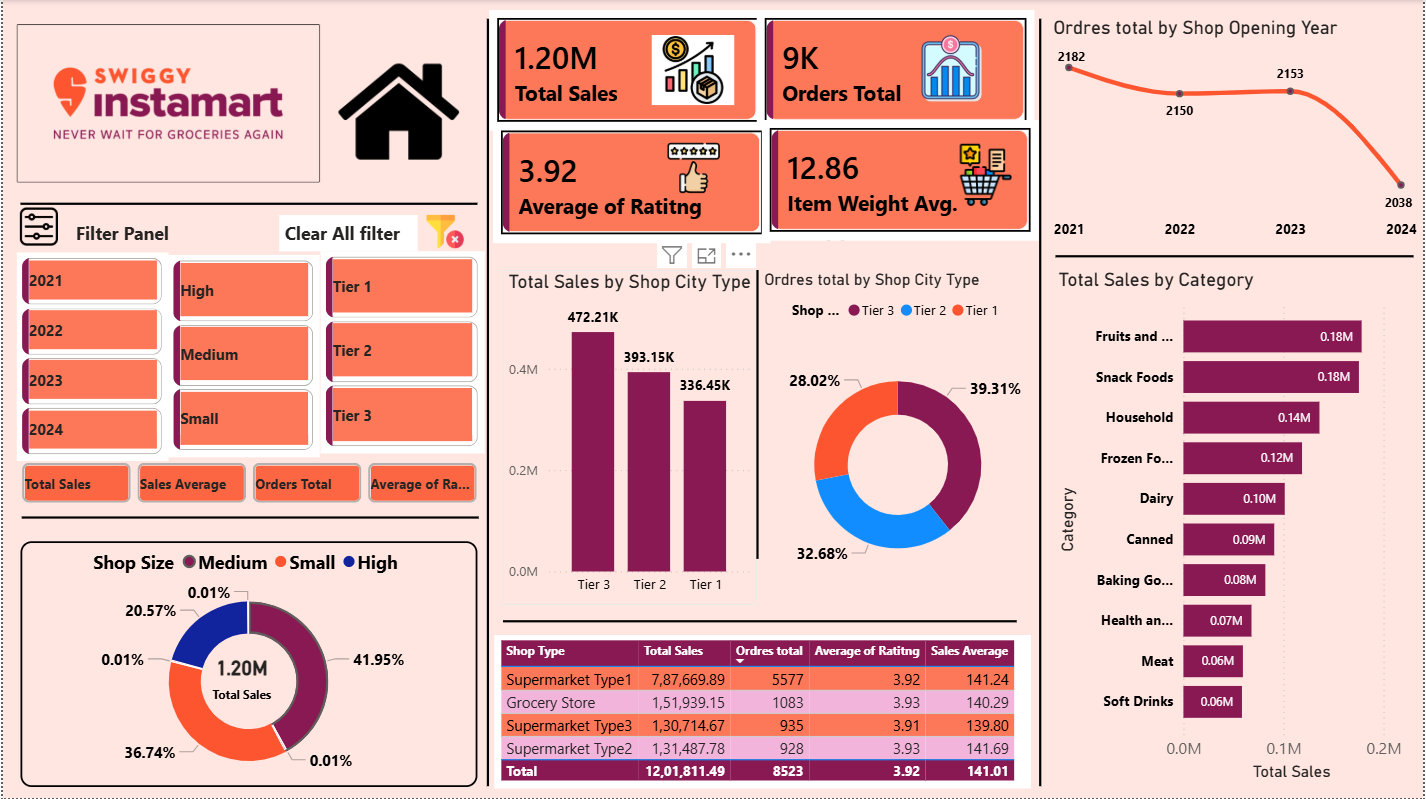

This screenshot's page, from the dashboard's own definition file:
{"tool":"powerbi","page":{"name":"Page 1","canvas":[1280,720],"ordinal":0},"visuals":[{"type":"cardVisual","fields":{"Data":["Grocery Shop.Total Sales"]},"box":[439,8.6,250.7,108.8],"z":0},{"type":"cardVisual","fields":{"Data":["Grocery Shop.Number of Item Sales"]},"box":[680,8.6,250.7,108.8],"z":1000},{"type":"image","box":[688.6,157.1,140,60],"z":2000},{"type":"image","box":[584.6,31.4,74.4,62.9],"z":3000},{"type":"cardVisual","fields":{"Data":["Grocery Shop.Average of Ratitng"]},"box":[441.5,110.1,250.7,108.8],"z":4000},{"type":"cardVisual","fields":{"Data":["Grocery Shop.Item Weight Avg."]},"box":[683.8,107.9,249.2,108.6],"z":5000},{"type":"image","box":[12.2,17.1,273.9,152.9],"z":6000},{"type":"image","box":[808.3,30.6,94.2,62.4],"z":7000},{"type":"image","box":[551.5,127.2,143.1,47.7],"z":8000},{"type":"image","box":[845,129.6,81.9,56.3],"z":9000},{"type":"image","box":[289.8,46.5,134.5,108.8],"z":10000},{"type":"donutChart","fields":{"Y":["Grocery Shop.Total Sales","Grocery Shop.Sales Average","Grocery Shop.Ordres total","Grocery Shop.Average of Ratitng"],"Category":["Grocery Shop.Shop Size"]},"box":[15.9,487.9,412.1,221.3],"z":11000},{"type":"card","fields":{"Values":["Grocery Shop.Total Sales"]},"box":[119.8,563.7,192,92.9],"z":12000},{"type":"advancedSlicerVisual","fields":{"Values":["Metric.Metric"]},"box":[12.2,412.1,421.9,46.5],"z":13000},{"type":"clusteredColumnChart","fields":{"Category":["Grocery Shop.Shop City Type"],"Y":["Grocery Shop.Total Sales"]},"box":[451.2,243.3,228.7,302],"z":14000},{"type":"donutChart","fields":{"Category":["Grocery Shop.Shop City Type"],"Y":["Grocery Shop.Number of Item Sales"]},"box":[686,243.3,240.9,302],"z":15000},{"type":"lineChart","fields":{"Category":["Grocery Shop.Shop Opening Year"],"Y":["Grocery Shop.Ordres total"]},"box":[942.8,14.7,337.5,210.3],"z":16000},{"type":"clusteredBarChart","fields":{"Category":["Grocery Shop.Category"],"Y":["Grocery Shop.Total Sales"]},"box":[946.5,242.1,333.8,467.1],"z":17000},{"type":"advancedSlicerVisual","fields":{"Values":["Grocery Shop.Shop Opening Year"]},"box":[12.2,227.7,137,188.3],"z":18000},{"type":"advancedSlicerVisual","fields":{"Values":["Grocery Shop.Shop Size"]},"box":[149.2,230.3,137,182.2],"z":19000},{"type":"advancedSlicerVisual","fields":{"Values":["Grocery Shop.Shop City Type"]},"box":[286.1,226.4,148,182.2],"z":20000},{"type":"tableEx","fields":{"Values":["Grocery Shop.Shop Type","Grocery Shop.Total Sales","Grocery Shop.Ordres total","Grocery Shop.Average of Ratitng","Grocery Shop.Sales Average"]},"box":[442.7,572.3,484.2,138.2],"z":21000},{"type":"image","box":[0,187.1,64.8,34.2],"z":22000},{"type":"textbox","box":[42.8,193.6,129.6,33],"z":23000},{"type":"image","box":[373,191.2,51.4,34.2],"z":24000},{"type":"textbox","box":[249.5,193.6,124.7,33],"z":25000},{"type":"shape","box":[15.9,168.8,412.1,29.3],"z":26000},{"type":"shape","box":[17.1,452.4,412.1,29.3],"z":27000},{"type":"shape","box":[424.3,17.1,26.9,692.1],"z":28000},{"type":"shape","box":[924.5,17.1,22,692.1],"z":29000},{"type":"shape","box":[671.3,243.3,17.1,260.5],"z":30000},{"type":"shape","box":[451.2,545.4,463.5,29.3],"z":31000},{"type":"shape","box":[948.9,216.4,322.8,29.3],"z":32000}]}

Visuals, with their boxes in screenshot pixels (x1, y1, x2, y2), scaled from the page's 1280x720 canvas onto the 1426x799 screenshot:
cardVisual - Grocery Shop.Total Sales: 489, 10, 768, 130
cardVisual - Grocery Shop.Number of Item Sales: 758, 10, 1037, 130
image: 767, 174, 923, 241
image: 651, 35, 734, 105
cardVisual - Grocery Shop.Average of Ratitng: 492, 122, 771, 243
cardVisual - Grocery Shop.Item Weight Avg.: 762, 120, 1039, 240
image: 14, 19, 319, 189
image: 900, 34, 1005, 103
image: 614, 141, 774, 194
image: 941, 144, 1033, 206
image: 323, 52, 473, 172
donutChart - Grocery Shop.Total Sales x Grocery Shop.Sales Average: 18, 541, 477, 787
card - Grocery Shop.Total Sales: 133, 626, 347, 729
advancedSlicerVisual - Metric.Metric: 14, 457, 484, 509
clusteredColumnChart - Grocery Shop.Shop City Type x Grocery Shop.Total Sales: 503, 270, 757, 605
donutChart - Grocery Shop.Shop City Type x Grocery Shop.Number of Item Sales: 764, 270, 1033, 605
lineChart - Grocery Shop.Shop Opening Year x Grocery Shop.Ordres total: 1050, 16, 1425, 250
clusteredBarChart - Grocery Shop.Category x Grocery Shop.Total Sales: 1054, 269, 1425, 787
advancedSlicerVisual - Grocery Shop.Shop Opening Year: 14, 253, 166, 462
advancedSlicerVisual - Grocery Shop.Shop Size: 166, 256, 319, 458
advancedSlicerVisual - Grocery Shop.Shop City Type: 319, 251, 484, 453
tableEx - Grocery Shop.Shop Type x Grocery Shop.Total Sales: 493, 635, 1033, 788
image: 0, 208, 72, 246
textbox: 48, 215, 192, 251
image: 416, 212, 473, 250
textbox: 278, 215, 417, 251
shape: 18, 187, 477, 220
shape: 19, 502, 478, 535
shape: 473, 19, 503, 787
shape: 1030, 19, 1054, 787
shape: 748, 270, 767, 559
shape: 503, 605, 1019, 638
shape: 1057, 240, 1417, 273
